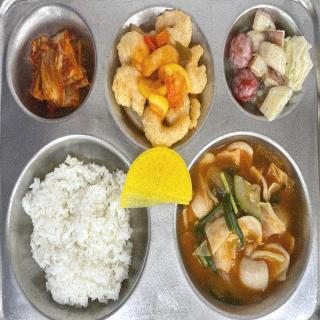Nasi: (22, 156, 122, 310)
